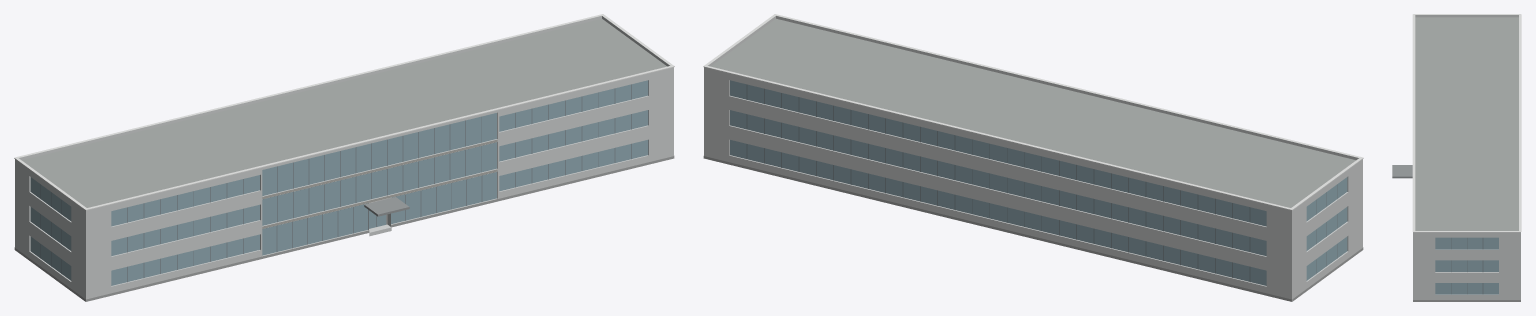
The picture shows the model from 3 angles, left to right: view 1: azimuth 30°, elevation 25°; view 2: azimuth 150°, elevation 25°; view 3: azimuth 270°, elevation 25°; orthographic projection. The views are drawn at different scales.
Parts seen in each view (by area): view 1: b115951821__roof, b115951821__glass, b115951821__wall, b115951821__parapet, b115951821__trim, b115951821__frame, b115951821__base, b115951821__spandrel, b115951821__canopy; view 2: b115951821__roof, b115951821__wall, b115951821__glass, b115951821__parapet, b115951821__trim, b115951821__base, b115951821__frame; view 3: b115951821__roof, b115951821__wall, b115951821__glass, b115951821__trim, b115951821__parapet, b115951821__canopy, b115951821__base, b115951821__frame.
Part boxes in pixels (x1,y1,x2,y2): b115951821__roof: [22, 18, 666, 207]; b115951821__glass: [30, 80, 648, 285]; b115951821__wall: [15, 69, 673, 301]; b115951821__parapet: [15, 16, 673, 212]; b115951821__trim: [14, 14, 674, 210]; b115951821__frame: [40, 84, 631, 282]; b115951821__base: [14, 156, 674, 301]; b115951821__spandrel: [262, 139, 497, 256]; b115951821__canopy: [364, 197, 409, 216]; b115951821__roof: [711, 18, 1355, 207]; b115951821__wall: [704, 69, 1362, 301]; b115951821__glass: [730, 80, 1347, 285]; b115951821__parapet: [704, 16, 1362, 212]; b115951821__trim: [703, 14, 1363, 210]; b115951821__base: [703, 156, 1363, 301]; b115951821__frame: [746, 84, 1337, 281]; b115951821__roof: [1415, 17, 1518, 230]; b115951821__wall: [1413, 234, 1520, 299]; b115951821__glass: [1435, 237, 1498, 294]; b115951821__trim: [1412, 14, 1521, 232]; b115951821__parapet: [1413, 15, 1520, 234]; b115951821__canopy: [1392, 165, 1412, 178]; b115951821__base: [1413, 300, 1520, 301]; b115951821__frame: [1451, 238, 1483, 294].
Bounding box in the file's own units: 74.65 × 11.55 × 18.67.
